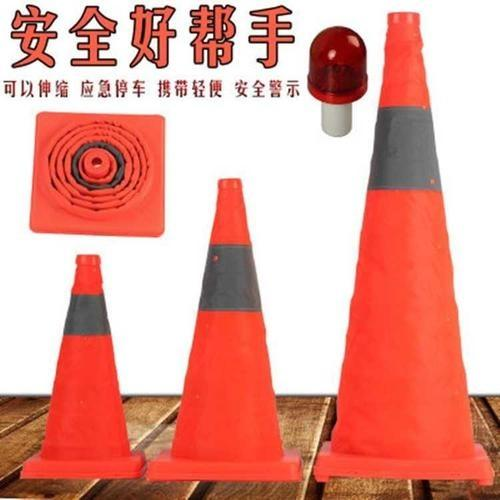cone_barrel: (325, 23, 490, 490), (161, 186, 294, 480), (30, 260, 140, 476)
